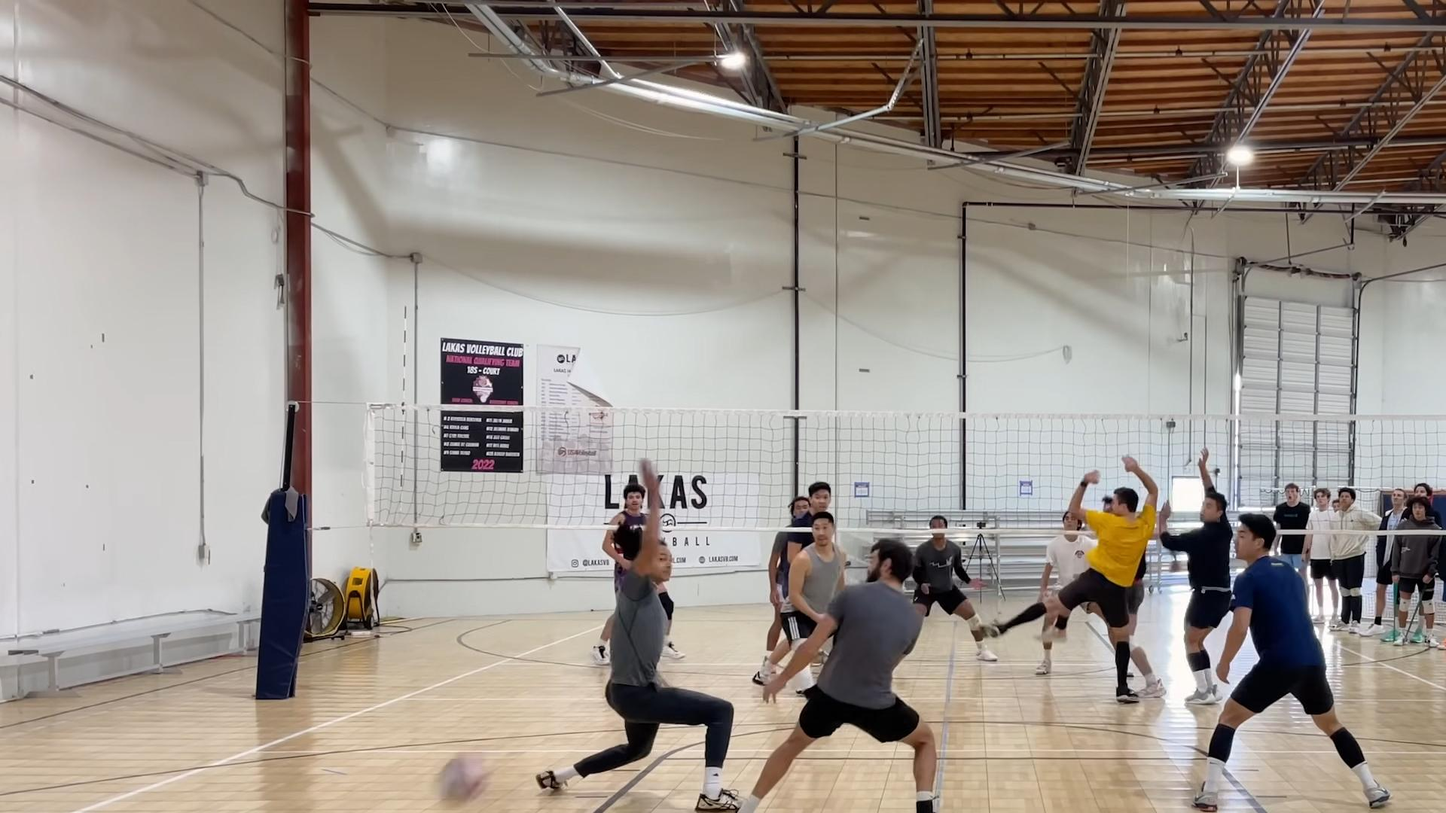Dig: (537, 464, 738, 812), (738, 537, 949, 808)
Player: (1194, 513, 1390, 810), (985, 457, 1158, 702), (1158, 449, 1232, 705), (754, 511, 845, 684), (913, 515, 997, 662), (1124, 556, 1166, 699), (1038, 513, 1094, 602), (602, 483, 646, 592), (782, 481, 831, 570), (765, 531, 789, 653)
ball: (435, 753, 489, 801)
